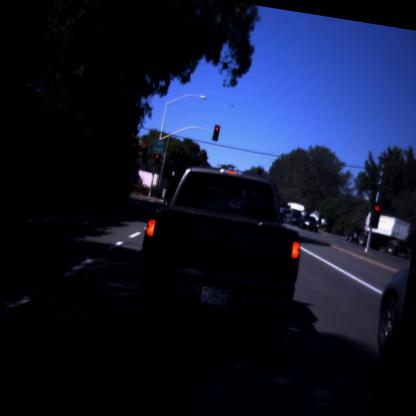trafficlight: (148, 148, 163, 174), (368, 202, 381, 228), (209, 121, 220, 142)
